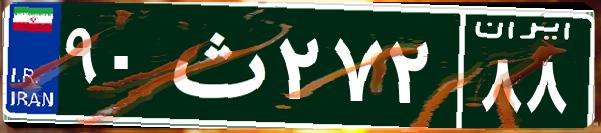0: (110, 28, 158, 105)
2: (385, 28, 445, 110), (273, 28, 330, 110)
7: (330, 28, 385, 110)
8: (475, 38, 525, 113), (525, 38, 570, 115)
9: (57, 26, 110, 107)
ث: (158, 15, 273, 115)
